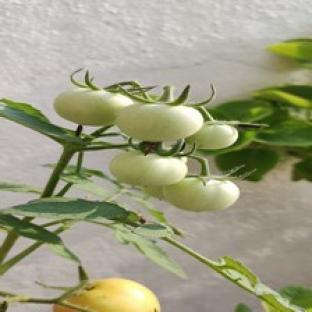Tomato: (116, 104, 203, 142), (67, 279, 160, 311), (55, 88, 133, 125), (109, 151, 188, 186), (163, 177, 239, 211), (186, 123, 238, 150), (144, 187, 164, 200)
